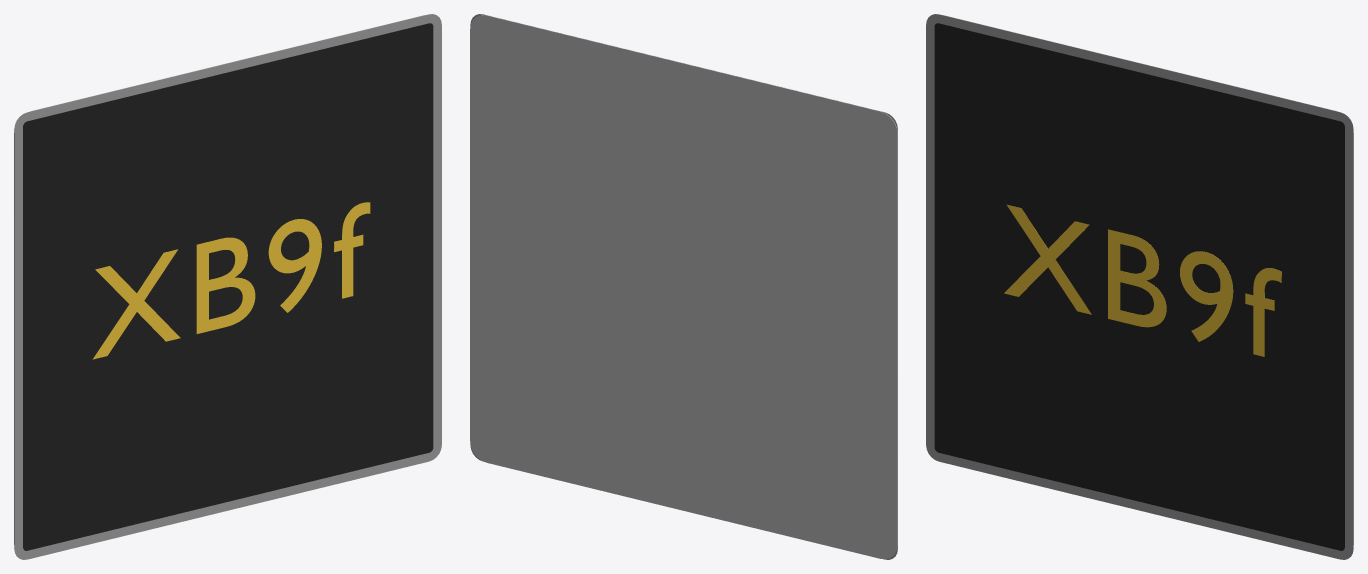
3 renders of one model, left to right at view 1: azimuth 30°, elevation 25°; view 2: azimuth 150°, elevation 25°; view 3: azimuth 330°, elevation 25°, orthographic.
Parts seen in each view (by area): view 1: XB9f_fond01, XB9f_cadre00, XB9f_txt02, XB9f_dos; view 2: XB9f_dos, XB9f_cadre00; view 3: XB9f_fond01, XB9f_cadre00, XB9f_txt02, XB9f_dos.
Part boxes in pixels (x1=…): XB9f_fond01: x1=23, y1=23, x2=433, y2=550; XB9f_cadre00: x1=14, y1=14, x2=441, y2=559; XB9f_txt02: x1=92, y1=202, x2=370, y2=359; XB9f_dos: x1=14, y1=15, x2=424, y2=544; XB9f_dos: x1=470, y1=15, x2=897, y2=559; XB9f_cadre00: x1=470, y1=14, x2=897, y2=559; XB9f_fond01: x1=934, y1=23, x2=1344, y2=550; XB9f_cadre00: x1=926, y1=14, x2=1353, y2=559; XB9f_txt02: x1=1004, y1=204, x2=1281, y2=356; XB9f_dos: x1=943, y1=15, x2=1353, y2=544.
Bounding box in the file's own units: 1 × 1 × 0.0025.
